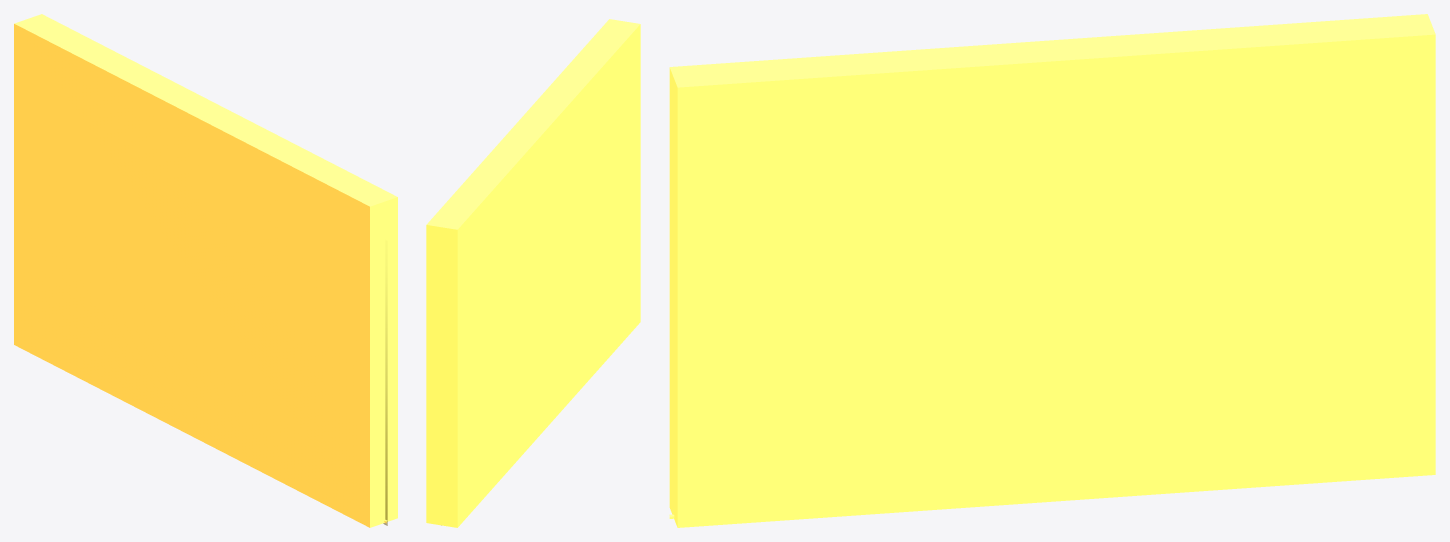
The model's file is obstacle_barrier.glb.
The picture shows the model from 3 angles, left to right: view 1: azimuth 30°, elevation 25°; view 2: azimuth 150°, elevation 25°; view 3: azimuth 270°, elevation 25°; orthographic projection. The views are drawn at different scales.
Parts seen in each view (by area): view 1: barrierBase, barrier; view 2: barrierBase; view 3: barrierBase.
Part boxes in pixels (box(x1,y1,x2,y2)): barrierBase: box(14, 14, 397, 527); barrier: box(383, 328, 387, 525); barrierBase: box(426, 19, 640, 527); barrierBase: box(669, 14, 1435, 527).
Size of the model in its own units: 3.53 by 10.12 by 15.54.
Materials: 2 (1 with a texture image).
